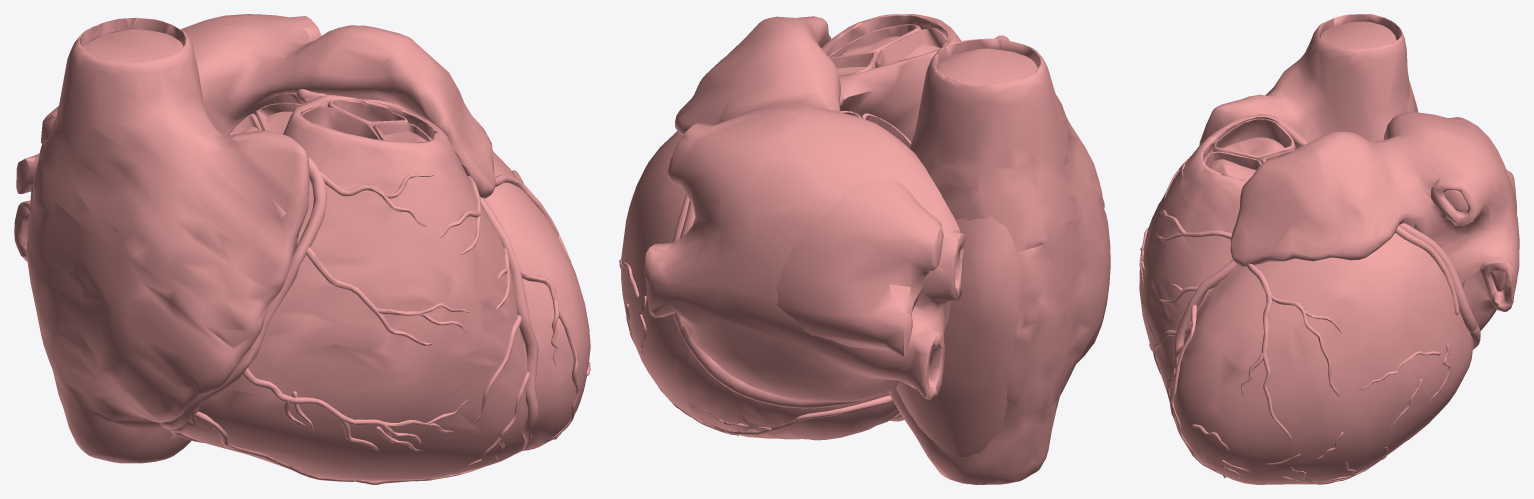
File: heart_sample.glb
3 views of the same model, side by side, from view 1: azimuth 30°, elevation 25°; view 2: azimuth 150°, elevation 25°; view 3: azimuth 270°, elevation 25° (orthographic). The views are drawn at different scales.
Parts seen in each view (by area): view 1: region of wall of heart; view 2: region of wall of heart; view 3: region of wall of heart.
Part boxes in pixels (x1,y1,x2,y2): region of wall of heart: (14, 14, 590, 484); region of wall of heart: (619, 14, 1110, 484); region of wall of heart: (1139, 14, 1519, 484).
Size of the model in its own units: 0.1156 by 0.1053 by 0.1064.
